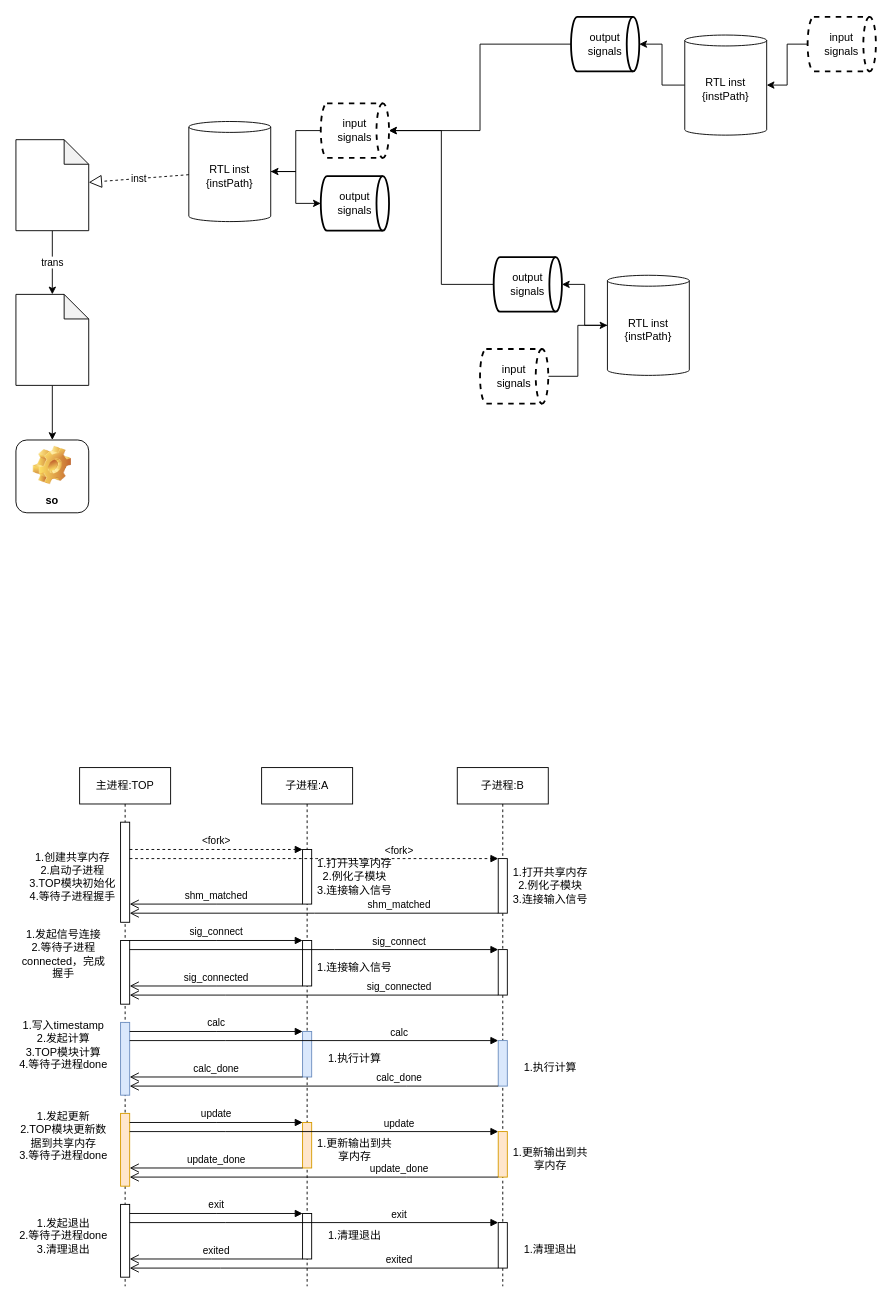
This 893x1302 diagram has some shape labels left out. Here are the shapes that lost their labels. From the top down, the centre of each, then its label:
At (x=52, y=185): "RTL module".
At (x=52, y=339): "C++ class".
